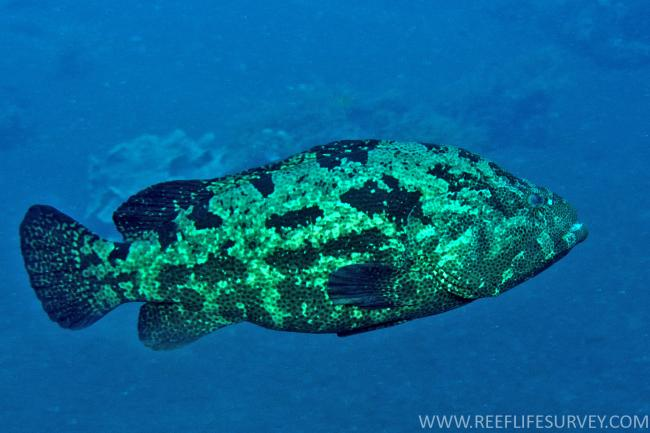fish: (19, 139, 590, 352)
